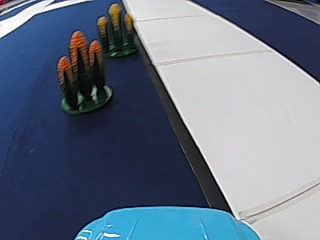corn: (55, 27, 111, 118), (100, 4, 137, 56)
